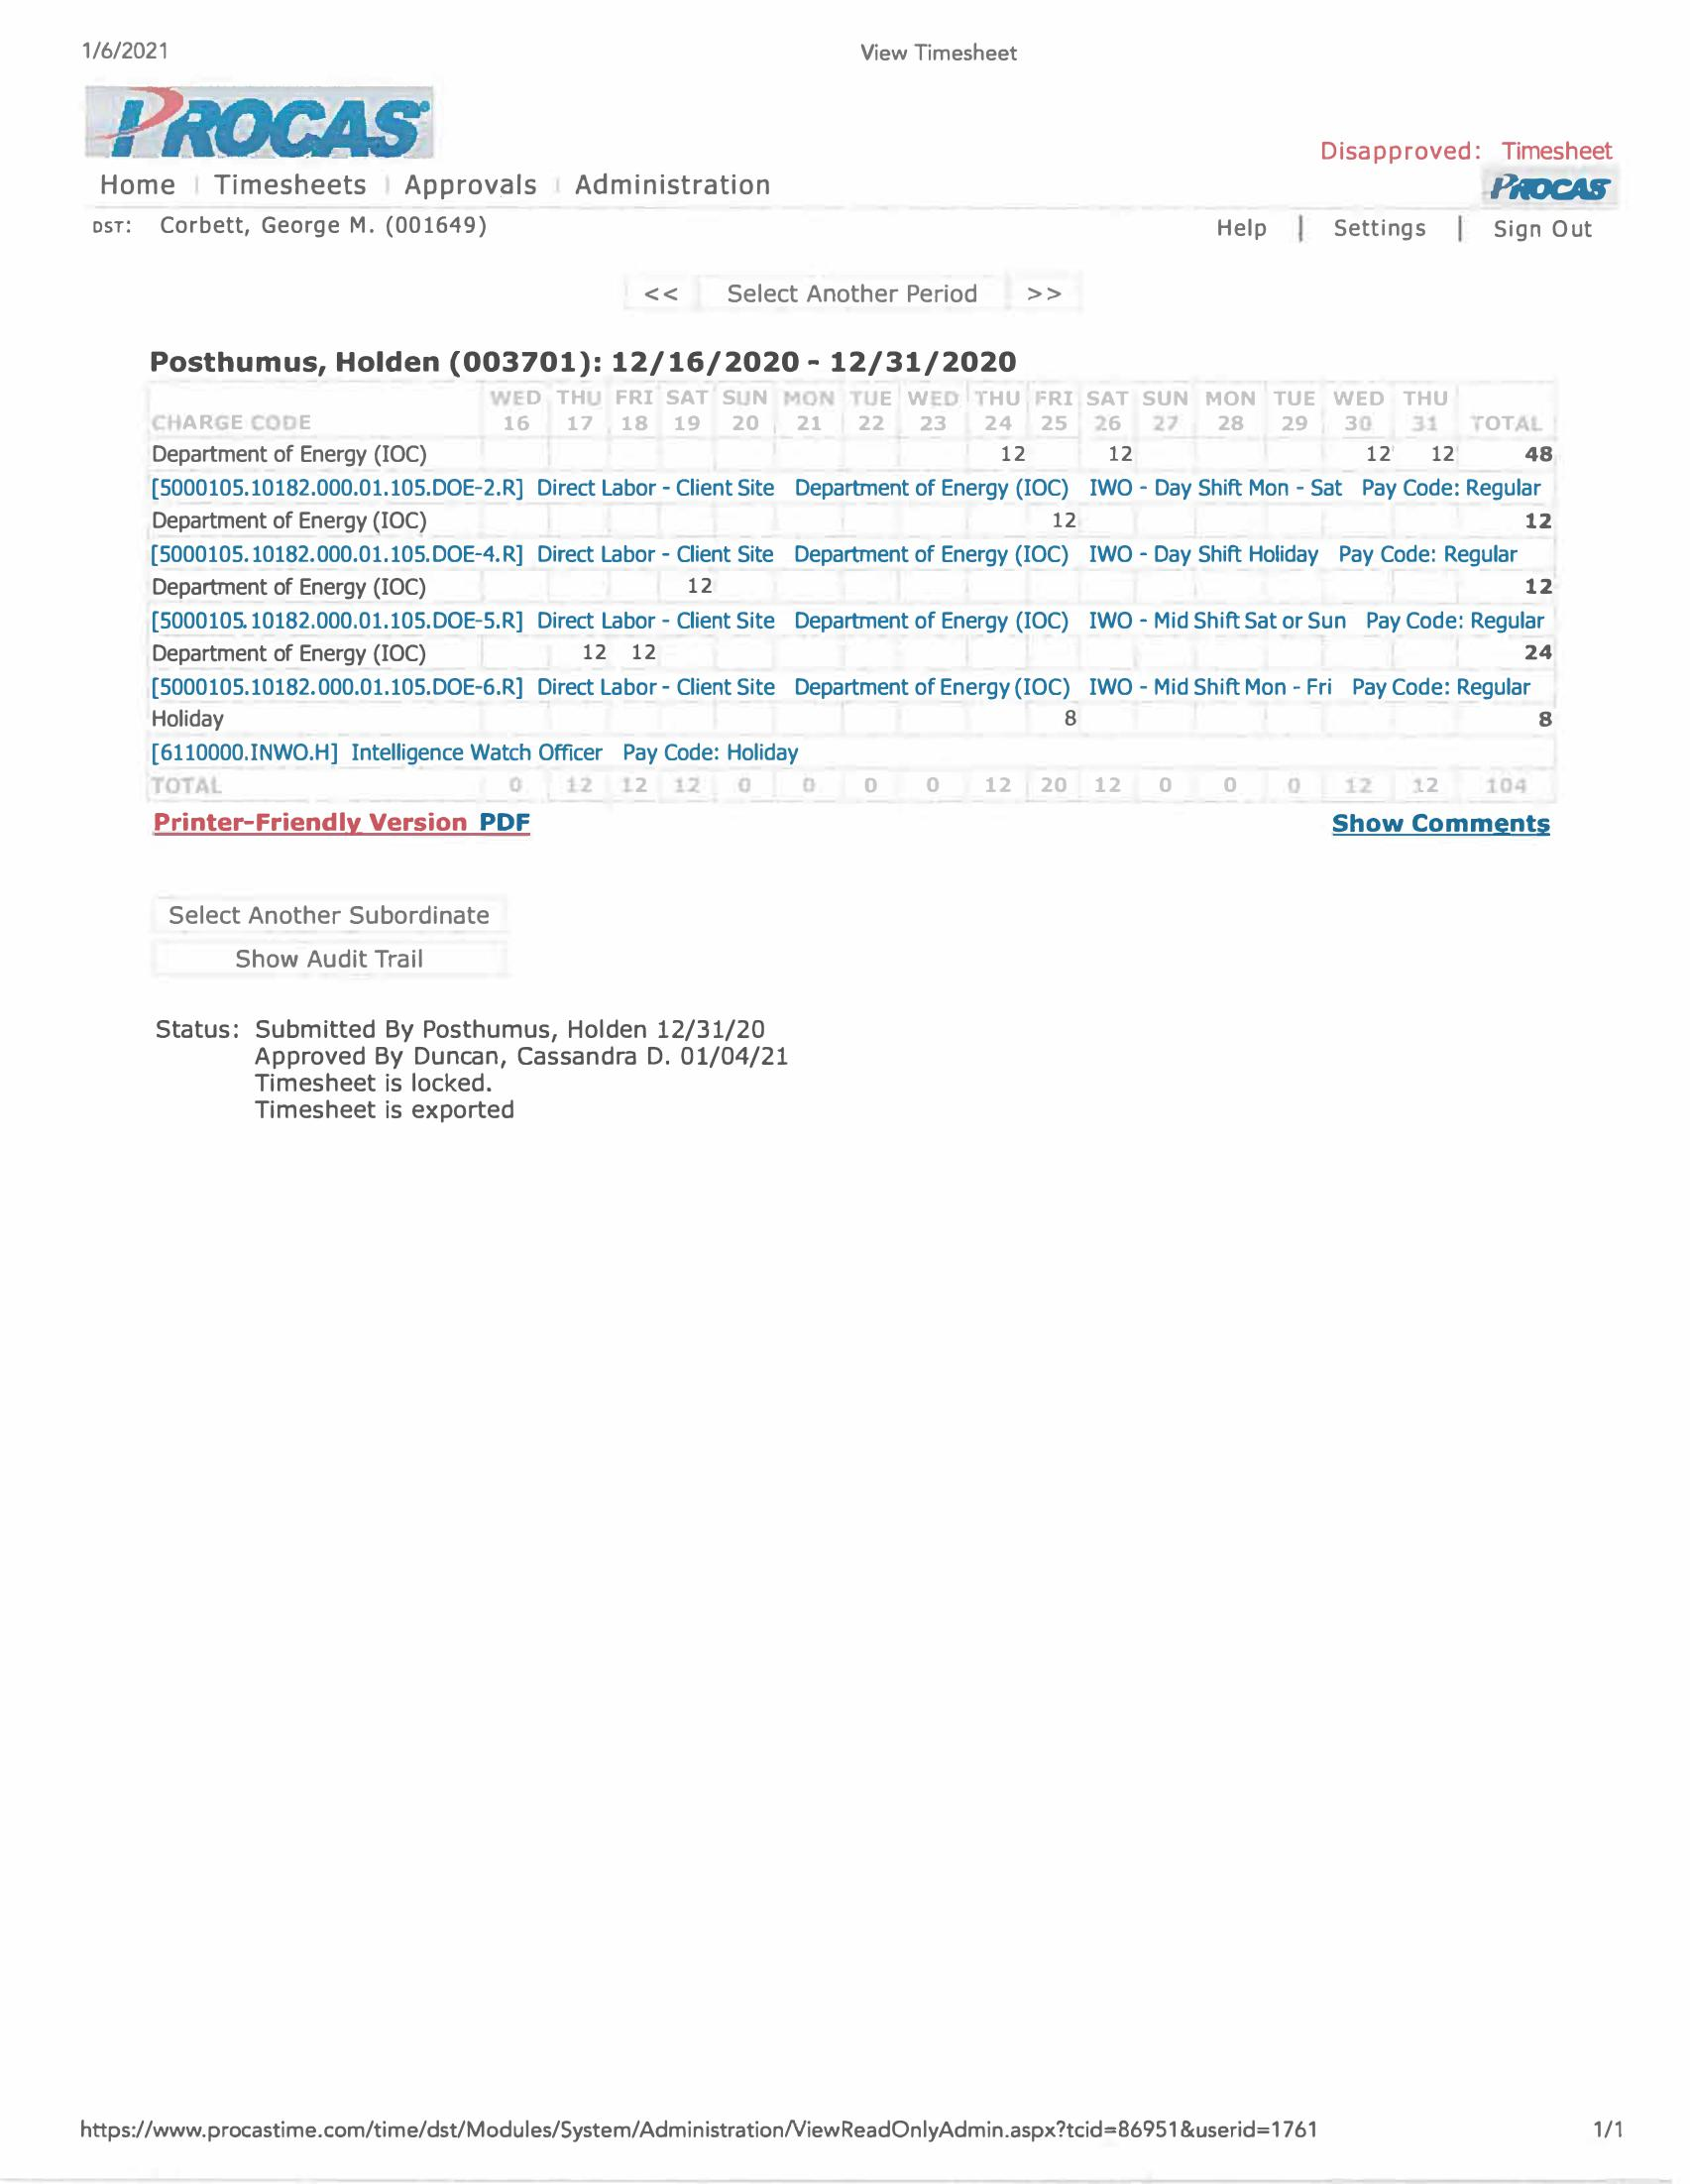table: (133, 374, 1573, 799)
